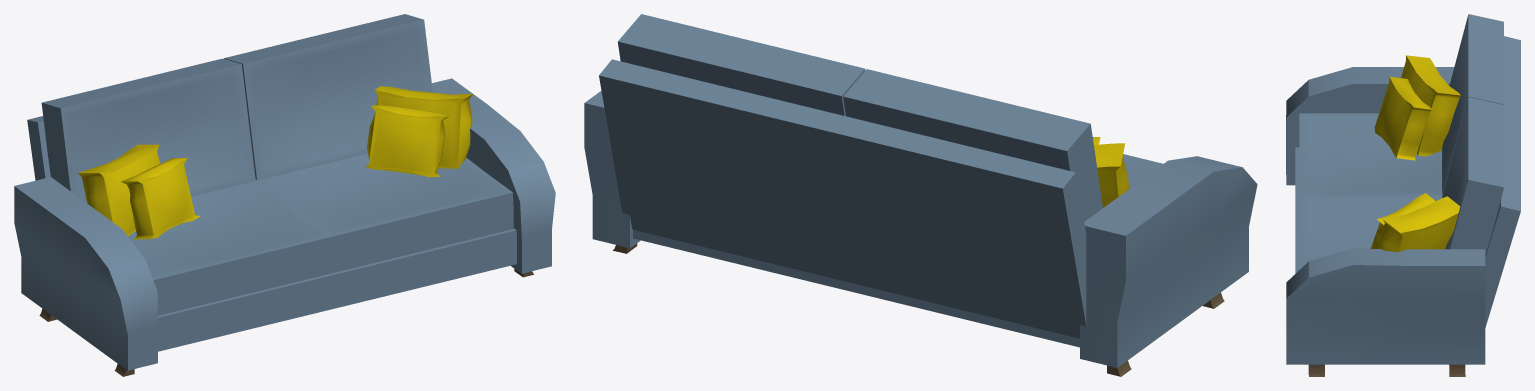
Rendered from sofa2.fbx.
3 views of the same model, side by side, from view 1: azimuth 30°, elevation 25°; view 2: azimuth 150°, elevation 25°; view 3: azimuth 270°, elevation 25° (orthographic). The views are drawn at different scales.
Visible parts, largest first — view 1: polySurface4, polySurface15, polySurface2, polySurface10, polySurface6, polySurface13, polySurface5, polySurface1, polySurface8, polySurface12, polySurface9, polySurface3; view 2: polySurface3, polySurface2, polySurface15, polySurface4, polySurface5, polySurface13, polySurface12, polySurface6; view 3: polySurface5, polySurface6, polySurface4, polySurface10, polySurface2, polySurface3, polySurface15, polySurface8, polySurface9, polySurface12, polySurface1, polySurface13 (+2 smaller).
Boxes of the visible parts, x1,y1,x2,y2 form: polySurface4: [224, 14, 432, 180]; polySurface15: [41, 58, 255, 202]; polySurface2: [14, 177, 157, 370]; polySurface10: [255, 153, 513, 273]; polySurface6: [128, 181, 332, 315]; polySurface13: [157, 228, 516, 351]; polySurface5: [432, 78, 555, 273]; polySurface1: [365, 105, 449, 177]; polySurface8: [121, 157, 200, 239]; polySurface12: [78, 144, 159, 236]; polySurface9: [374, 86, 472, 168]; polySurface3: [27, 116, 50, 180]; polySurface3: [599, 59, 1086, 338]; polySurface2: [1080, 156, 1257, 367]; polySurface15: [843, 69, 1102, 221]; polySurface4: [617, 14, 865, 116]; polySurface5: [584, 90, 640, 248]; polySurface13: [633, 230, 1079, 347]; polySurface12: [1094, 143, 1129, 207]; polySurface6: [1122, 154, 1163, 188]; polySurface5: [1286, 248, 1485, 364]; polySurface6: [1299, 113, 1442, 195]; polySurface4: [1442, 97, 1503, 254]; polySurface10: [1299, 196, 1442, 269]; polySurface2: [1286, 67, 1454, 185]; polySurface3: [1485, 36, 1520, 327]; polySurface15: [1442, 14, 1503, 194]; polySurface8: [1374, 76, 1431, 160]; polySurface9: [1378, 196, 1460, 252]; polySurface12: [1401, 55, 1461, 156]; polySurface1: [1370, 193, 1435, 248]; polySurface13: [1295, 147, 1299, 273].
Bounding box in the file's own units: 2.8 × 1.22 × 1.39.
